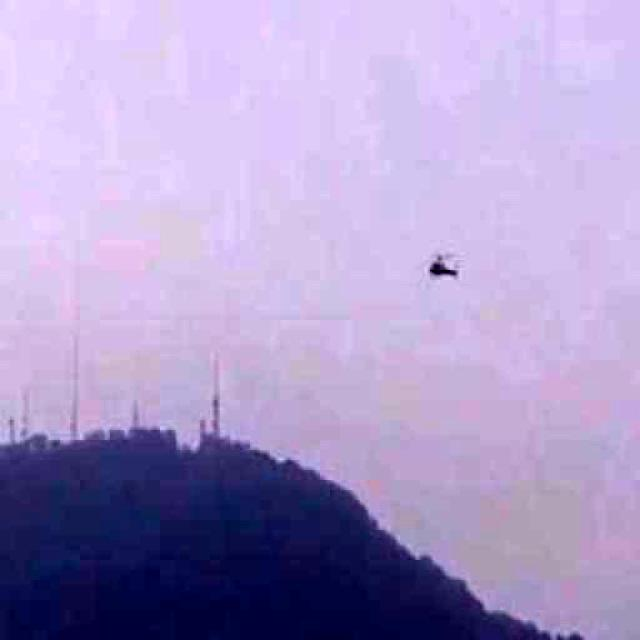drone: (396, 224, 476, 302)
